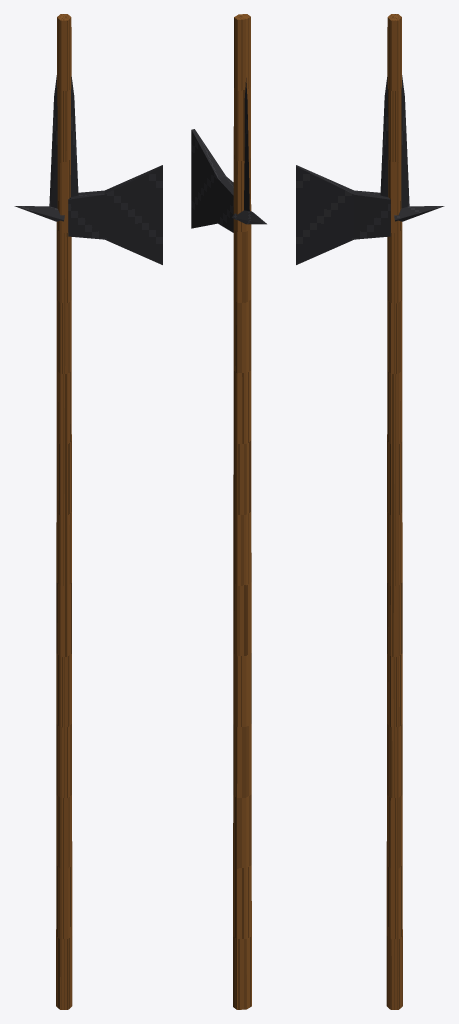
File: alabarda.glb
3 views of the same model, side by side, from view 1: azimuth 90°, elevation 25°; view 2: azimuth 210°, elevation 25°; view 3: azimuth 270°, elevation 25° (orthographic).
Parts seen in each view (by area): view 1: asta, hacha, punta, pico; view 2: asta, hacha, punta, pico; view 3: asta, hacha, punta, pico.
Part boxes in pixels (x1,y1,x2,y2): asta: [56, 14, 72, 1009]; hacha: [68, 165, 162, 264]; punta: [49, 75, 78, 208]; pico: [14, 206, 64, 221]; asta: [233, 14, 251, 1009]; hacha: [191, 129, 233, 232]; punta: [244, 78, 249, 211]; pico: [232, 210, 266, 224]; asta: [386, 14, 402, 1009]; hacha: [296, 165, 390, 264]; punta: [380, 75, 409, 208]; pico: [394, 206, 444, 221].
Size of the model in its own units: 0.05 by 2.2 by 0.3.
1 material, 1 textured.
